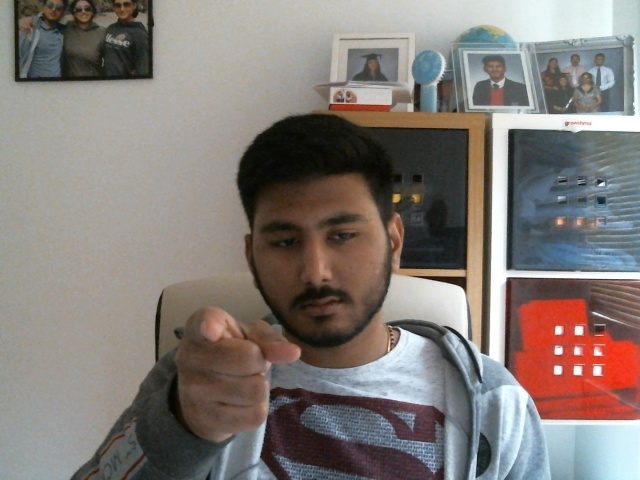you: (175, 308, 301, 439)
